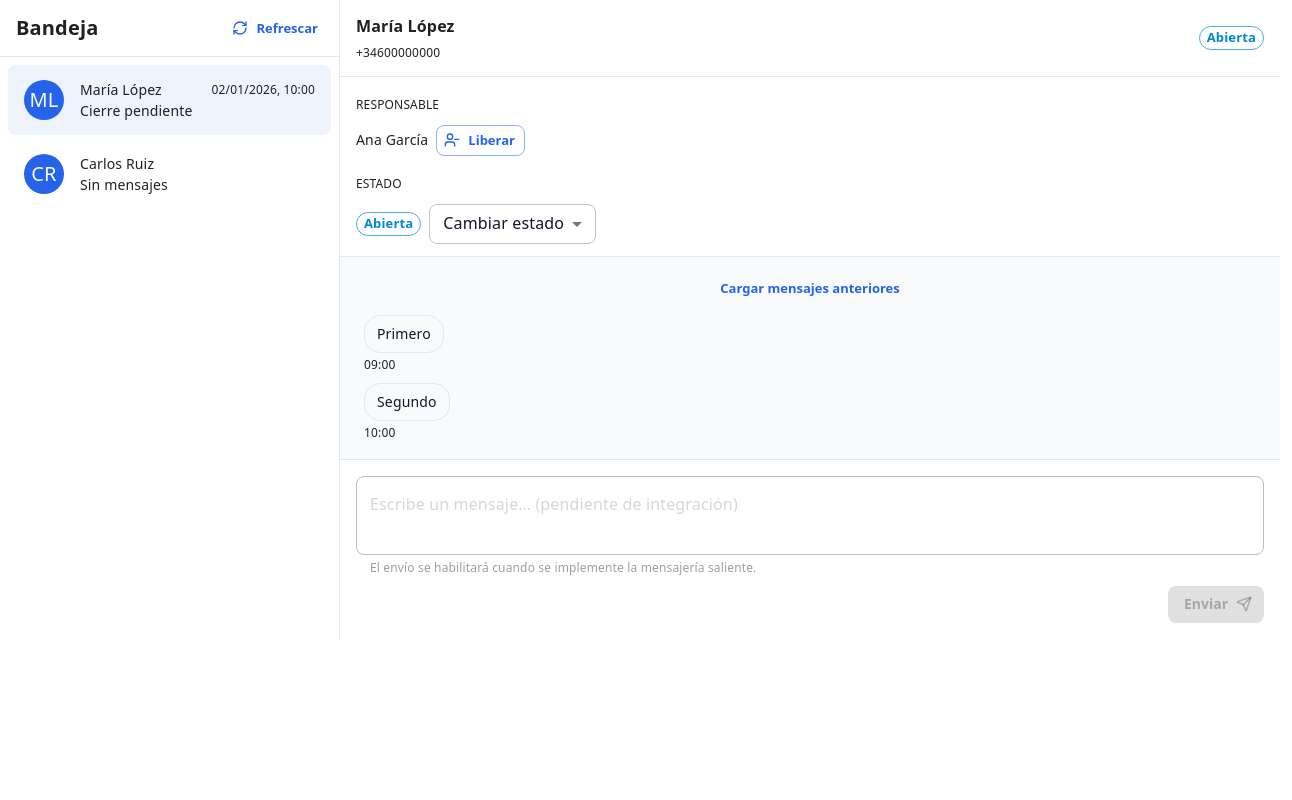
InboxPage › no dispara peticiones concurrentes al cargar anteriores
Check: the text "Primero" is shown, box [377, 324, 431, 344]
Click the button "Cargar mensajes anteriores".
click(810, 288)  # box [715, 273, 905, 303]
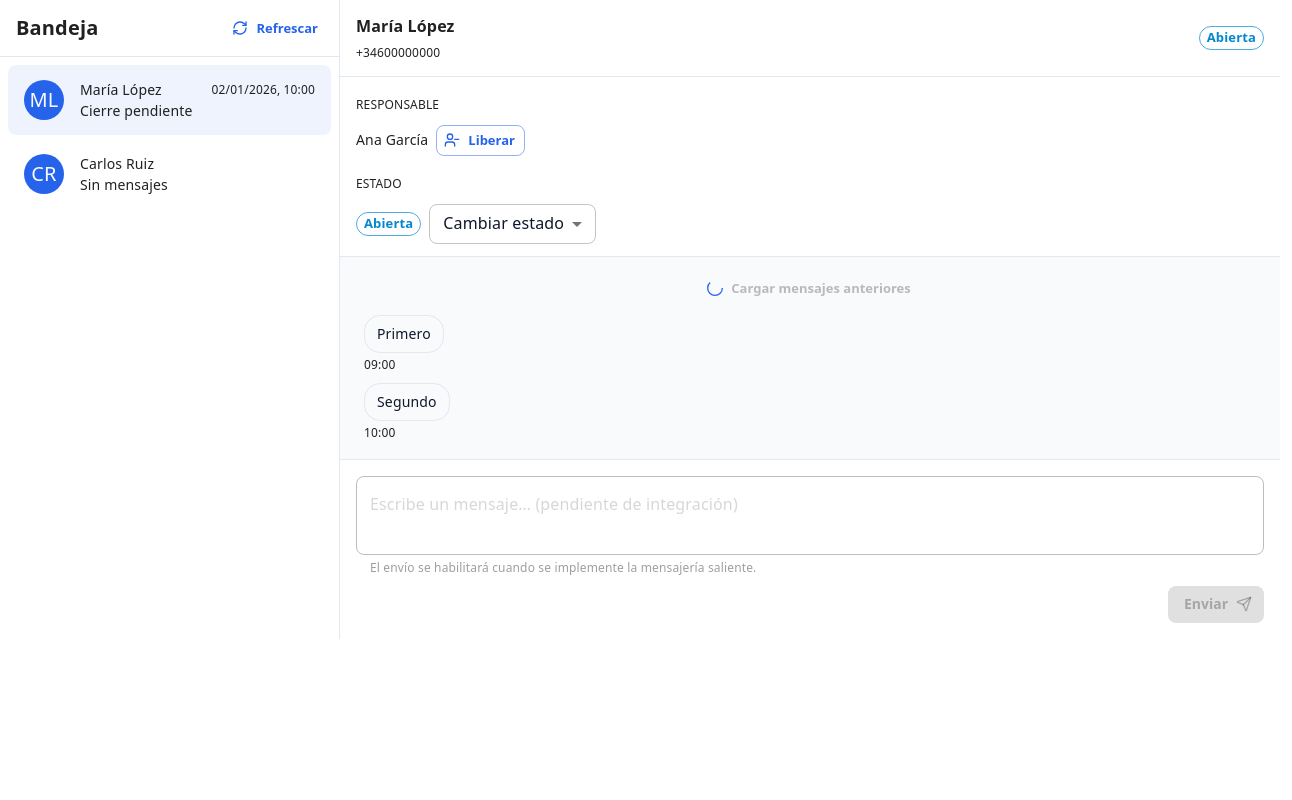
Click the button "Cargar mensajes anteriores".
click(810, 288)  # box [704, 273, 916, 303]
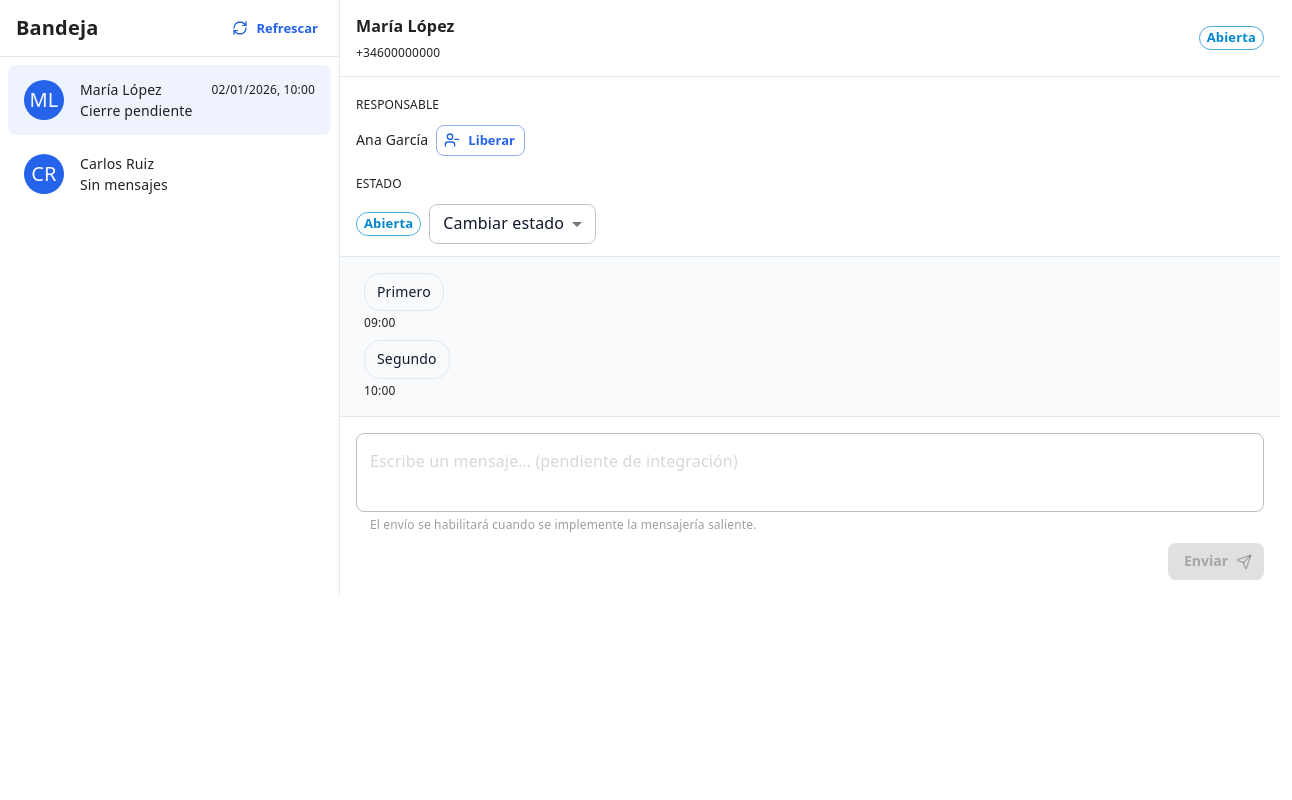
Check: the button "Cargar mensajes anteriores" is gone
